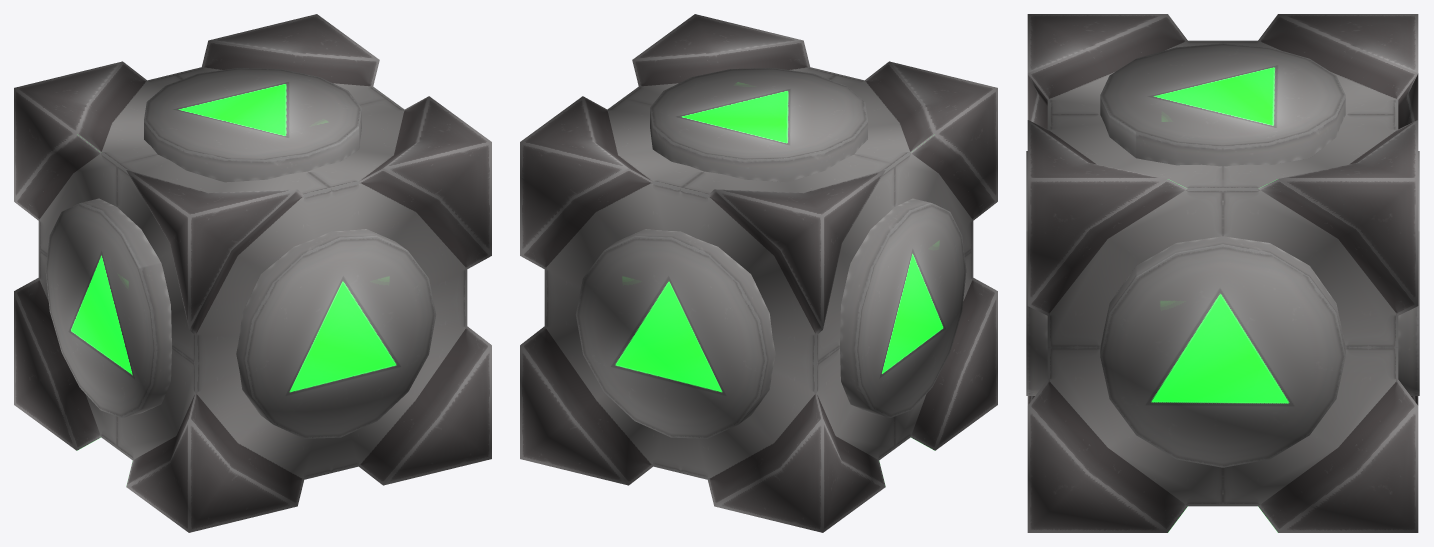
File: CubeTriangle.glb
3 renders of one model, left to right at view 1: azimuth 30°, elevation 25°; view 2: azimuth 150°, elevation 25°; view 3: azimuth 270°, elevation 25°, orthographic. The views are drawn at different scales.
Parts seen in each view (by area): view 1: Cube.009; view 2: Cube.009; view 3: Cube.009.
Part boxes in pixels (x1,y1,x2,y2): Cube.009: [14, 14, 491, 532]; Cube.009: [520, 14, 997, 532]; Cube.009: [1026, 14, 1419, 532].
Size of the model in its own units: 1.57 by 1.57 by 1.57.
1 material, 1 textured.
